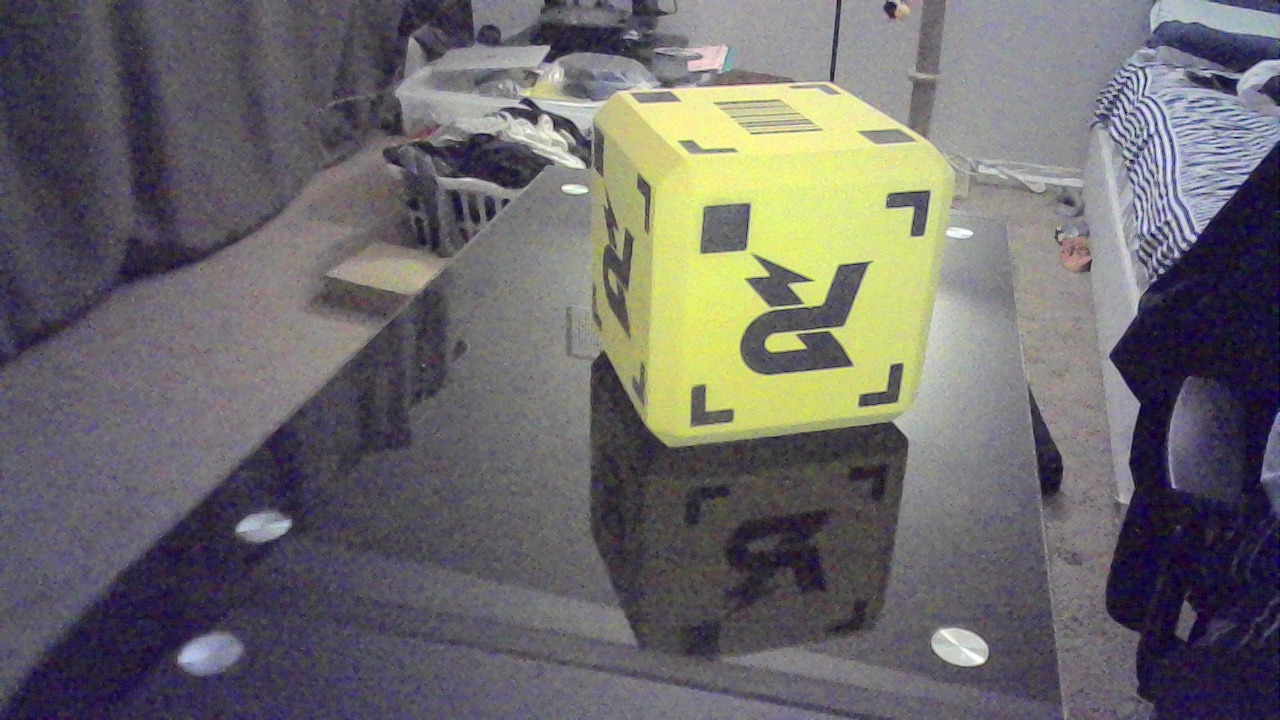Barcode: (721, 100, 837, 146)
R: (737, 243, 881, 384), (606, 193, 648, 352)
